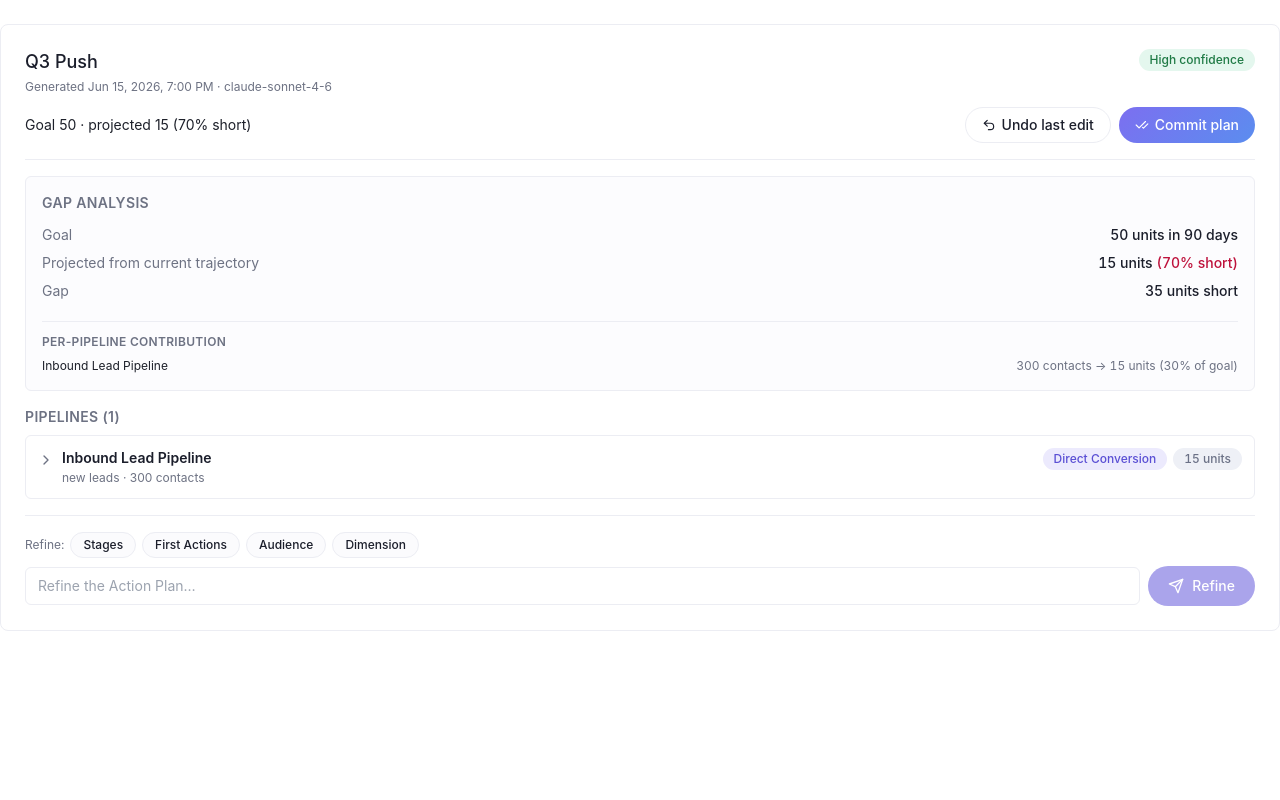
Test: Refiner result variants (G4/G5/G6) › renders no_plan_to_refine alert
Type "rename" into the field labelled "Refine the Action Plan…".
click(583, 586); type("rename")  # box x1=25 y1=567 x2=1140 y2=605
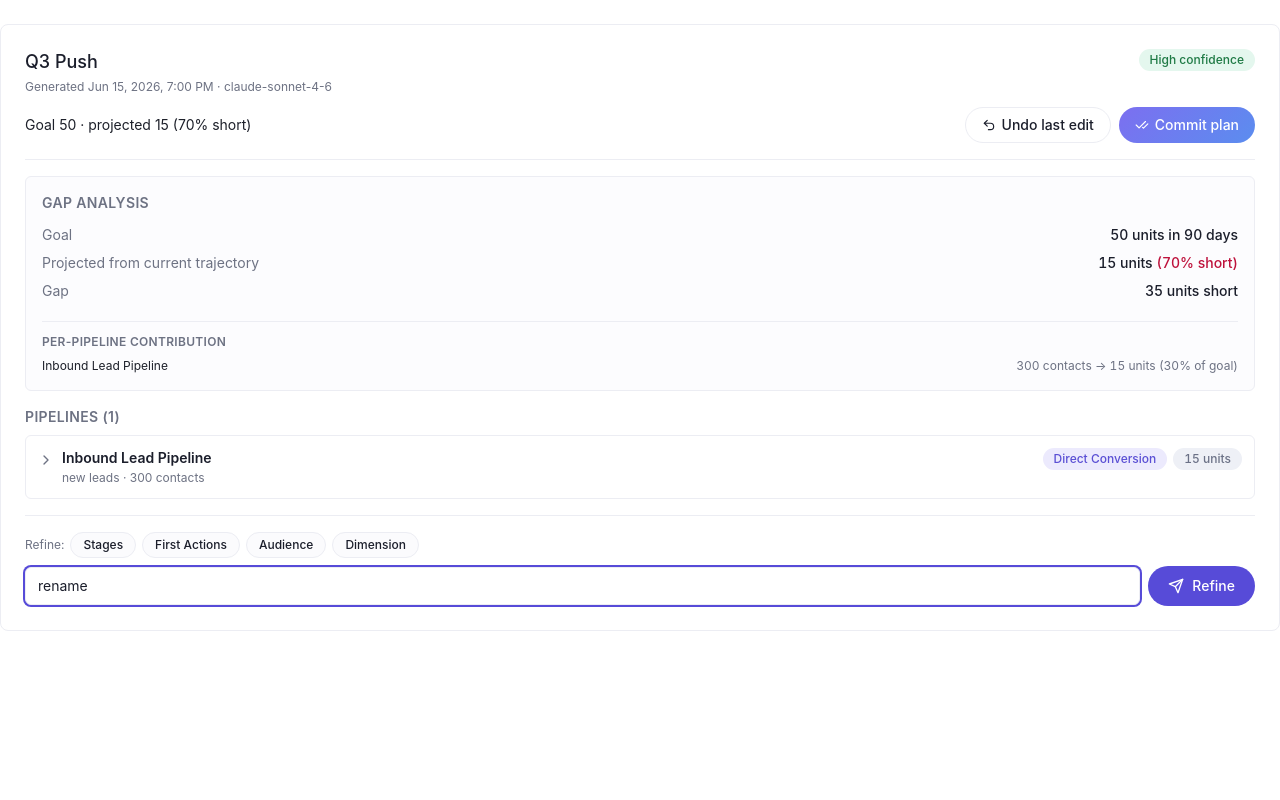
Click the button with aria-label "Send refinement".
click(1202, 586)  # box x1=1148 y1=566 x2=1255 y2=606
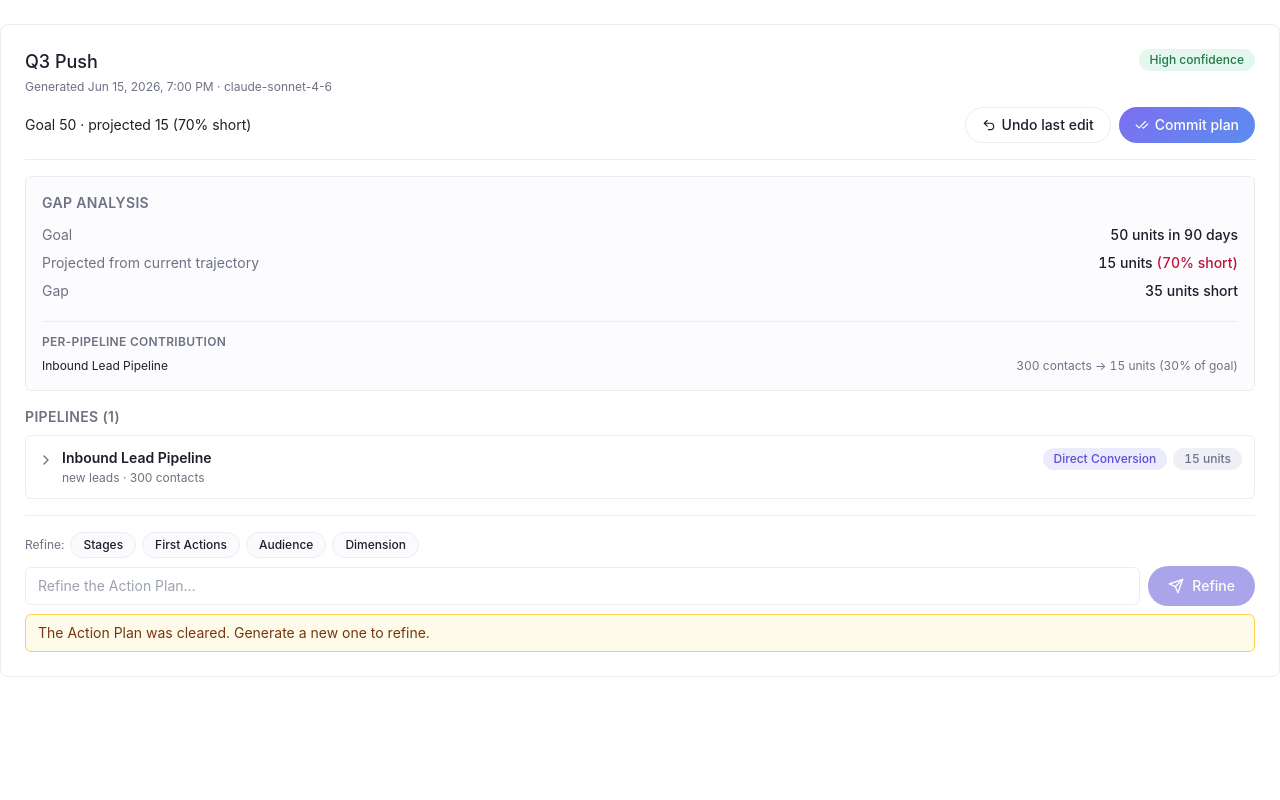
Expected: the text "The Action Plan was cleared. Generate a new one to refine." is shown, x1=25 y1=614 x2=1255 y2=652
